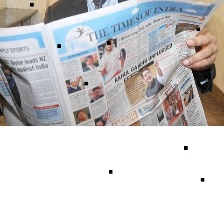news_paper: (0, 0, 223, 126)
